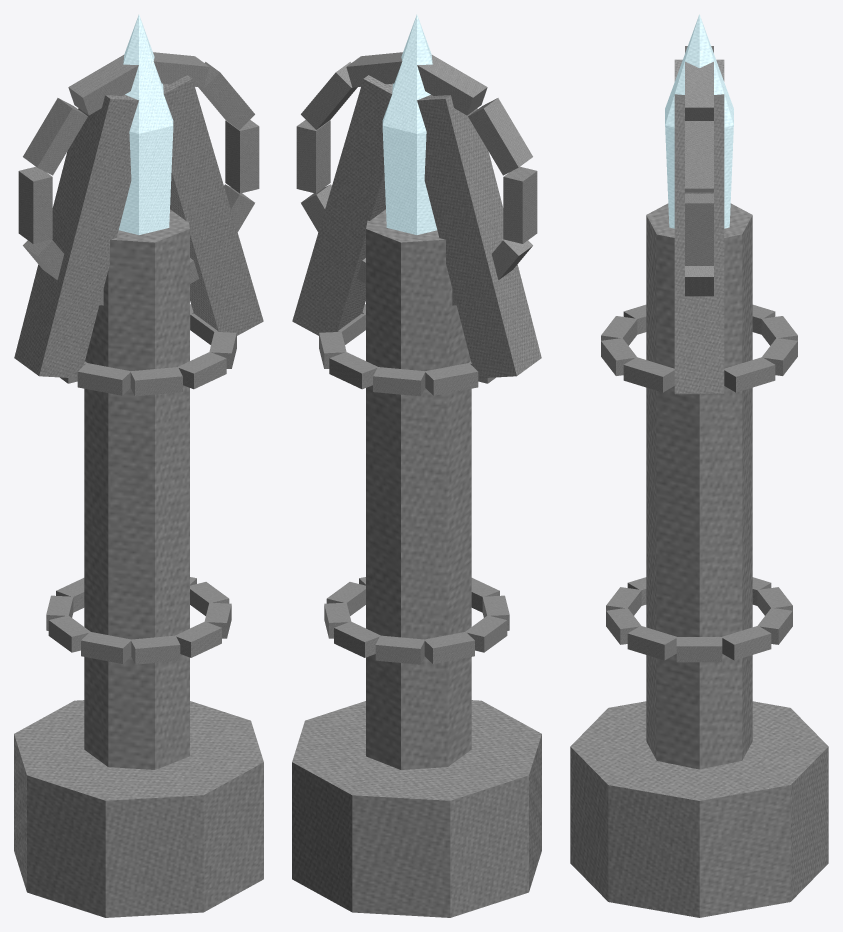
Rendered from runed-totem.glb.
The picture shows the model from 3 angles, left to right: view 1: azimuth 30°, elevation 25°; view 2: azimuth 150°, elevation 25°; view 3: azimuth 270°, elevation 25°; orthographic projection.
Visible parts, largest first — view 1: shaft, base, left-fork, right-fork, totem-crystal, socket-ring-4, socket-ring-5, socket-ring-0, socket-ring-3, socket-ring-1, socket-ring-2, binding-high-4 (+13 smaller); view 2: shaft, base, left-fork, right-fork, totem-crystal, socket-ring-4, socket-ring-5, socket-ring-0, socket-ring-3, socket-ring-1, socket-ring-2, binding-high-6 (+13 smaller); view 3: shaft, base, right-fork, totem-crystal, socket-ring-0, socket-ring-1, socket-ring-2, binding-high-1, binding-high-9, binding-low-1, binding-low-9, binding-low-0 (+9 smaller).
Part boxes in pixels (x1=…): shaft: x1=84, y1=209, x2=189, y2=769; base: x1=14, y1=700, x2=263, y2=917; left-fork: x1=14, y1=95, x2=138, y2=378; right-fork: x1=163, y1=75, x2=263, y2=335; totem-crystal: x1=118, y1=14, x2=173, y2=234; socket-ring-4: x1=23, y1=98, x2=87, y2=175; socket-ring-5: x1=18, y1=166, x2=52, y2=243; socket-ring-0: x1=225, y1=120, x2=259, y2=193; socket-ring-3: x1=68, y1=55, x2=138, y2=115; socket-ring-1: x1=198, y1=62, x2=254, y2=129; socket-ring-2: x1=153, y1=52, x2=209, y2=87; binding-high-4: x1=77, y1=363, x2=130, y2=395; shaft: x1=366, y1=209, x2=471, y2=769; base: x1=292, y1=700, x2=541, y2=917; left-fork: x1=417, y1=95, x2=541, y2=378; right-fork: x1=292, y1=75, x2=392, y2=335; totem-crystal: x1=382, y1=14, x2=437, y2=234; socket-ring-4: x1=468, y1=98, x2=532, y2=175; socket-ring-5: x1=503, y1=166, x2=537, y2=243; socket-ring-0: x1=296, y1=120, x2=330, y2=193; socket-ring-3: x1=417, y1=55, x2=487, y2=115; socket-ring-1: x1=301, y1=62, x2=357, y2=129; socket-ring-2: x1=346, y1=52, x2=402, y2=87; binding-high-6: x1=425, y1=363, x2=478, y2=395; shaft: x1=646, y1=203, x2=752, y2=769; base: x1=570, y1=701, x2=828, y2=917; right-fork: x1=674, y1=94, x2=724, y2=393; totem-crystal: x1=665, y1=14, x2=733, y2=228; socket-ring-0: x1=685, y1=194, x2=713, y2=265; socket-ring-1: x1=685, y1=121, x2=713, y2=192; socket-ring-2: x1=685, y1=61, x2=713, y2=120; binding-high-1: x1=623, y1=357, x2=674, y2=392; binding-high-9: x1=724, y1=357, x2=775, y2=392; binding-low-1: x1=627, y1=626, x2=676, y2=660; binding-low-9: x1=722, y1=626, x2=771, y2=660; binding-low-0: x1=676, y1=637, x2=722, y2=662.
Size of the model in its own units: 0.525 by 1.89 by 0.52.
5 materials, 5 textured.
